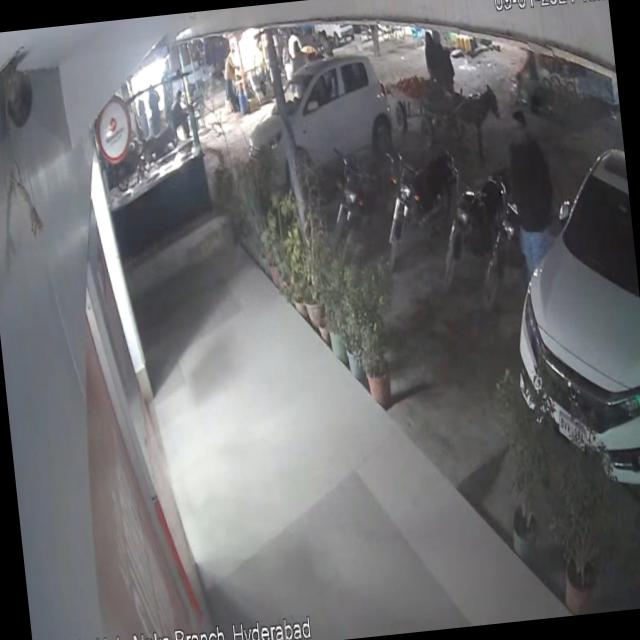Car: (494, 128, 640, 515), (239, 50, 416, 196)
Motorcycle: (380, 132, 470, 276), (468, 168, 546, 310), (316, 130, 401, 256), (434, 172, 486, 295)
